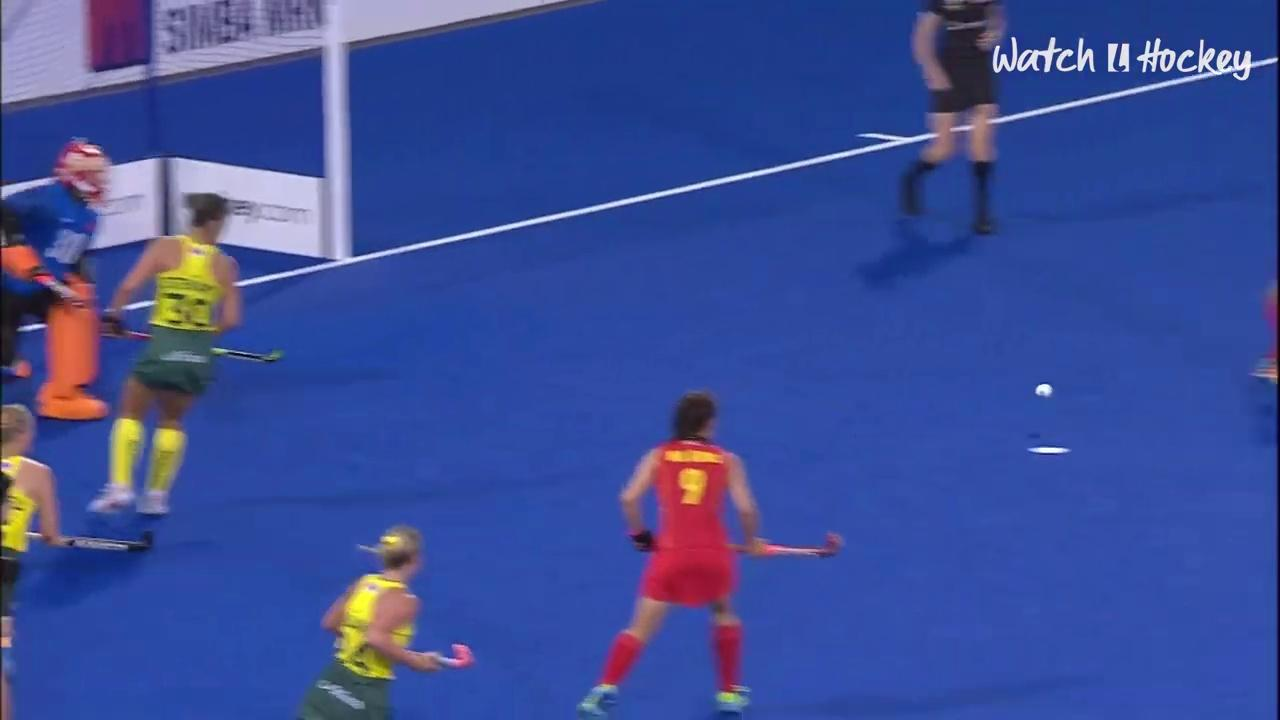ball: (1025, 374, 1063, 407)
